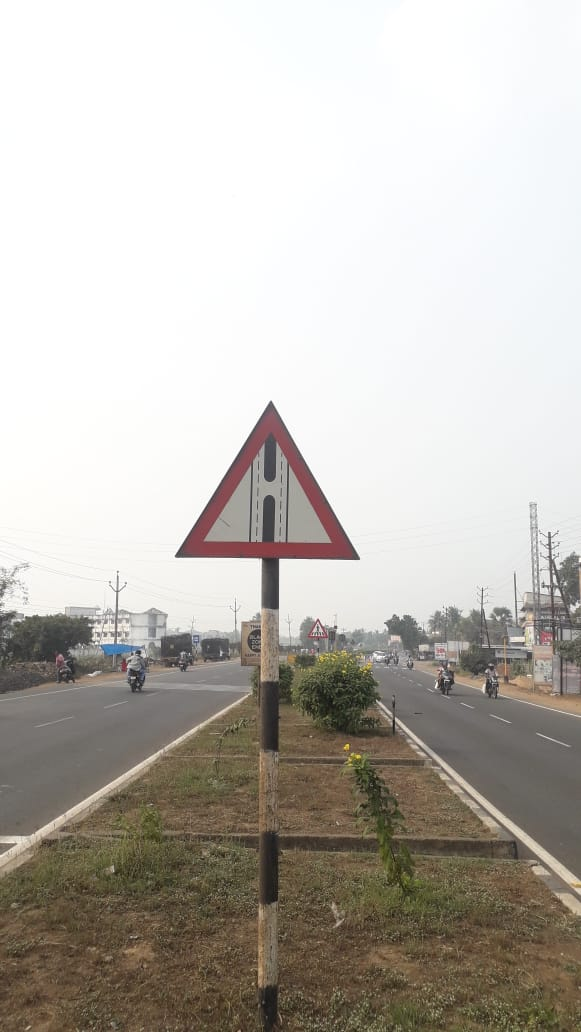highway go straight: (154, 406, 417, 630)
